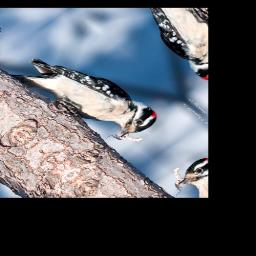Woodpecker: (12, 37, 164, 155)
